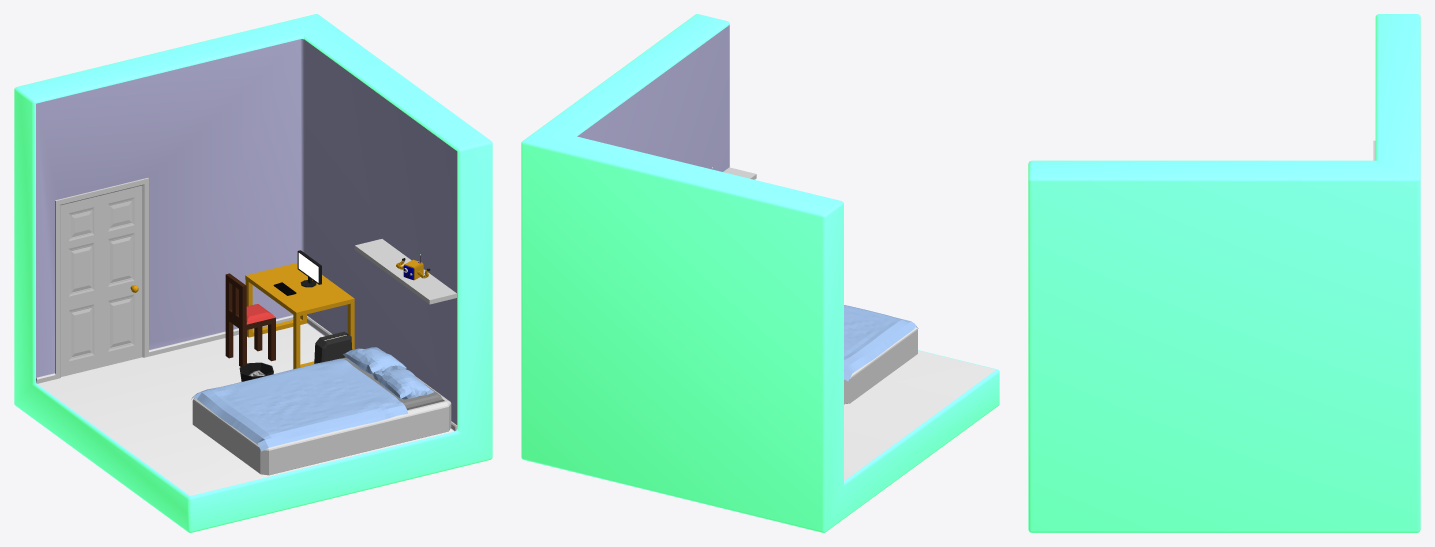
The model's file is CozyRoom_5.glb.
3 renders of one model, left to right at view 1: azimuth 30°, elevation 25°; view 2: azimuth 150°, elevation 25°; view 3: azimuth 270°, elevation 25°, orthographic. The views are drawn at different scales.
Visible parts, largest first — view 1: Cube.026, Cube.004, Plane.002, Cube.002, Cube.020, Cube.023, Cube.008, Cube.007, Plane.004, Cube.005, Plane.003, Cube.011 (+3 smaller); view 2: Cube.026, Plane.002, Cube.002; view 3: Cube.026.
Boxes of the visible parts, <box> form: Cube.026: <box>14,14,492,532</box>; Cube.004: <box>61,185,142,376</box>; Plane.002: <box>191,358,408,451</box>; Cube.002: <box>192,357,451,475</box>; Cube.020: <box>245,263,354,369</box>; Cube.023: <box>225,273,275,366</box>; Cube.008: <box>354,239,456,304</box>; Cube.007: <box>142,178,148,357</box>; Plane.004: <box>372,369,433,399</box>; Cube.005: <box>55,199,60,379</box>; Plane.003: <box>343,347,406,374</box>; Cube.011: <box>314,331,352,363</box>; Cube.026: <box>521,14,999,532</box>; Plane.002: <box>844,305,918,381</box>; Cube.002: <box>844,327,917,404</box>; Cube.026: <box>1028,14,1420,532</box>.
Size of the model in its own units: 2.26 by 2.26 by 2.26.
